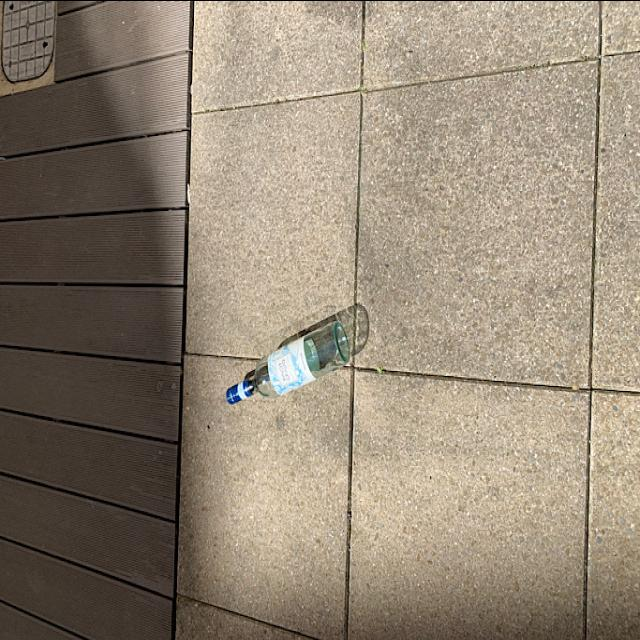litter: (222, 316, 362, 410)
